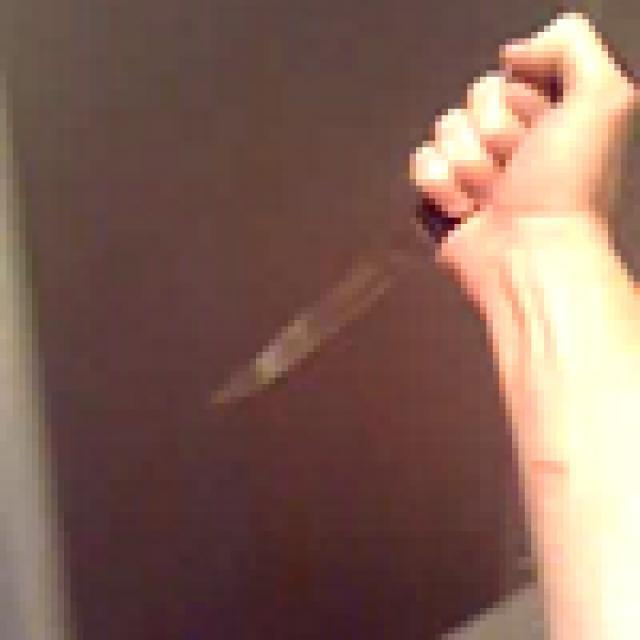knife: (192, 0, 608, 442)
